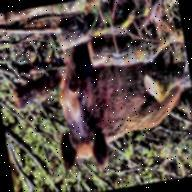boar: (41, 19, 192, 184)
